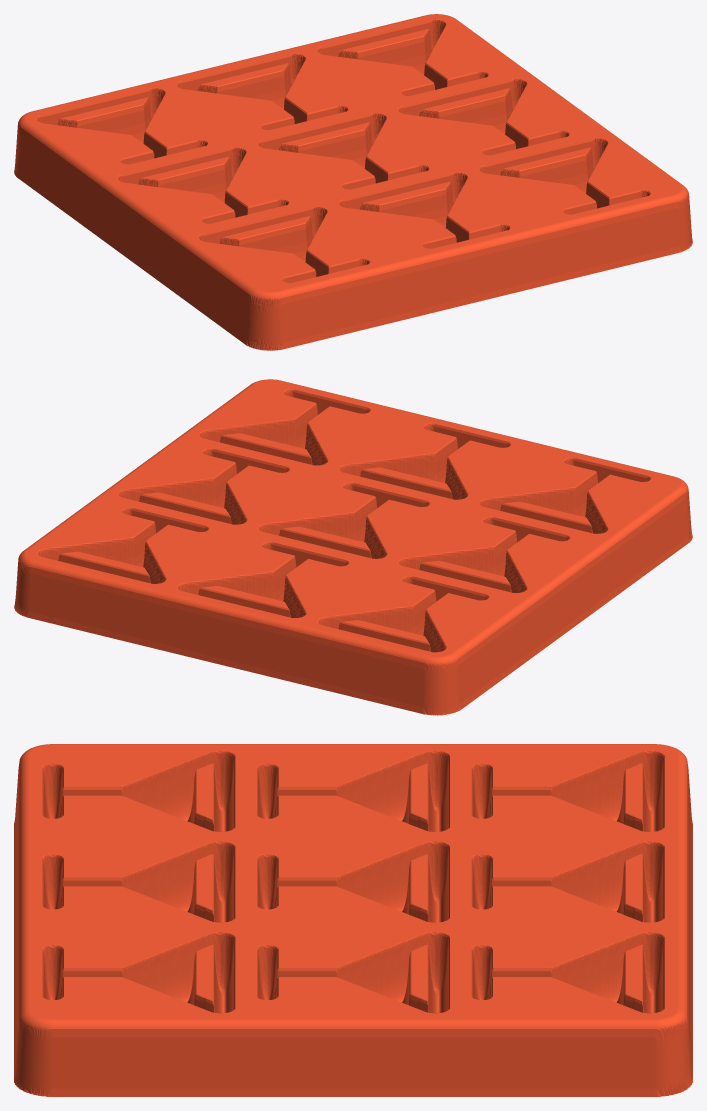
The model's file is mold.glb.
The picture shows the model from 3 angles, top to bottom: view 1: azimuth 30°, elevation 25°; view 2: azimuth 150°, elevation 25°; view 3: azimuth 270°, elevation 25°; orthographic projection. The views are drawn at different scales.
Parts seen in each view (by area): view 1: geometry_0; view 2: geometry_0; view 3: geometry_0.
Part boxes in pixels (x1,y1,x2,y2): geometry_0: (14, 14, 692, 350); geometry_0: (14, 379, 692, 715); geometry_0: (14, 744, 692, 1096).
Size of the model in its own units: 0.1595 by 0.0185 by 0.1595.
